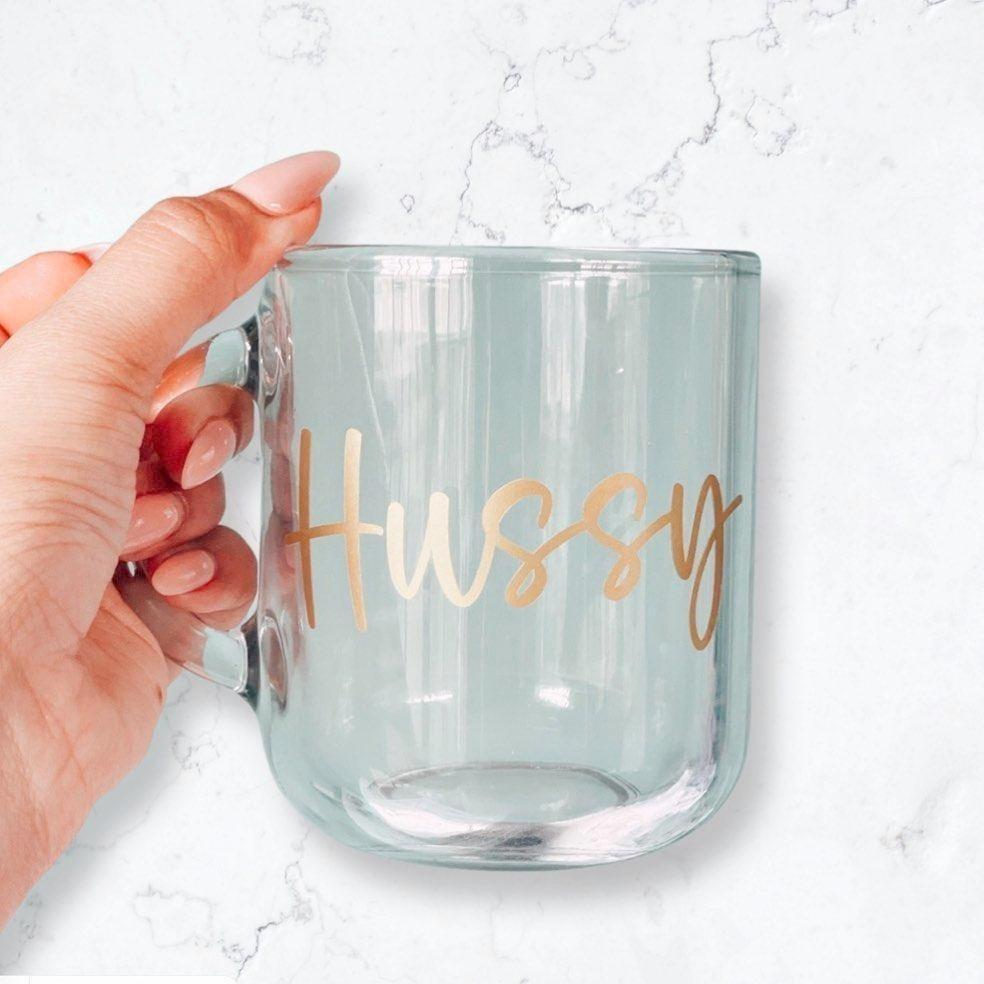glass-mug: (120, 229, 781, 880)
